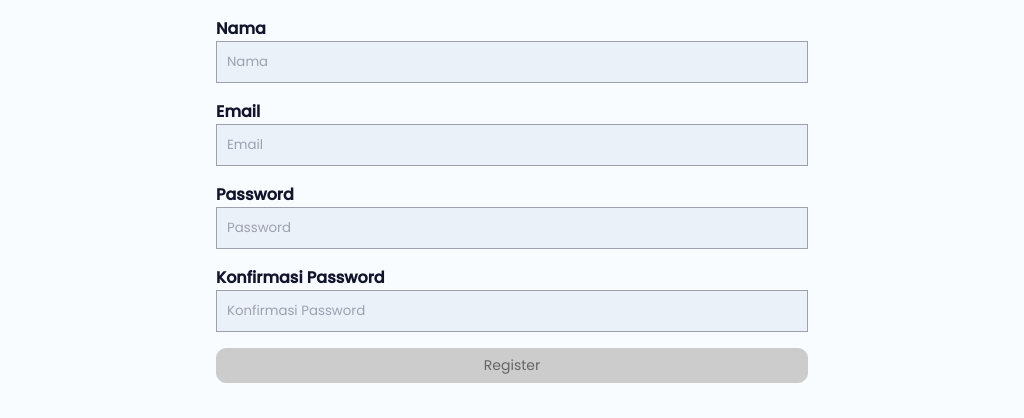
Scenario: RegisterInput component › should show invalid password message when password is empty
The width and height of the screenshot is (1024, 418).
Click the password field with placeholder "Password" at (512, 228), box [216,207,808,249]
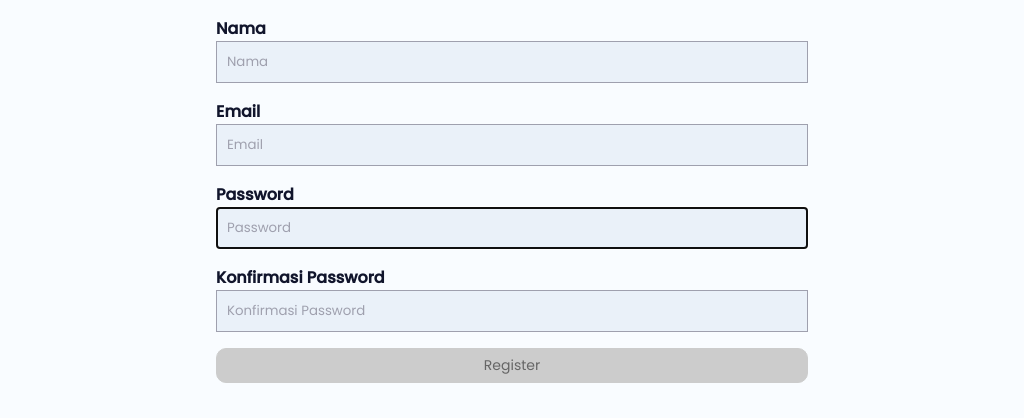
Click the element showing "Nama Email Password Konfirmasi Password Register" at (512, 200), box [0,0,1023,399]
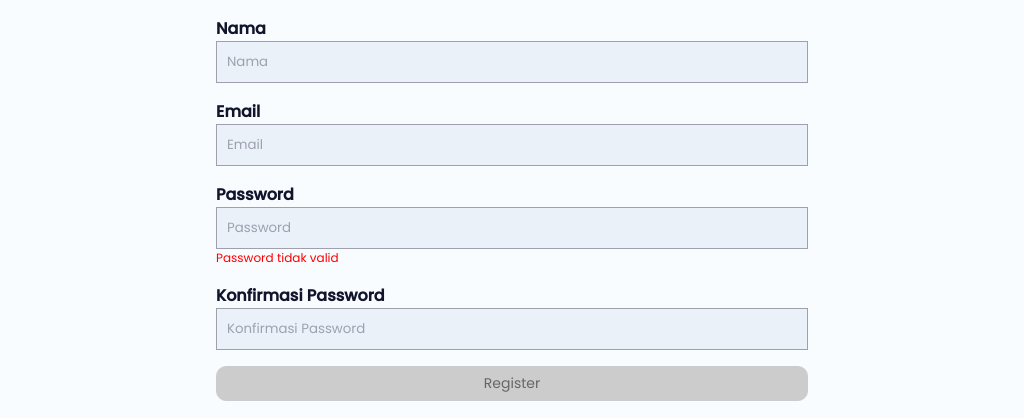
Check: the text "Password tidak valid" is shown, box [216,249,339,266]
